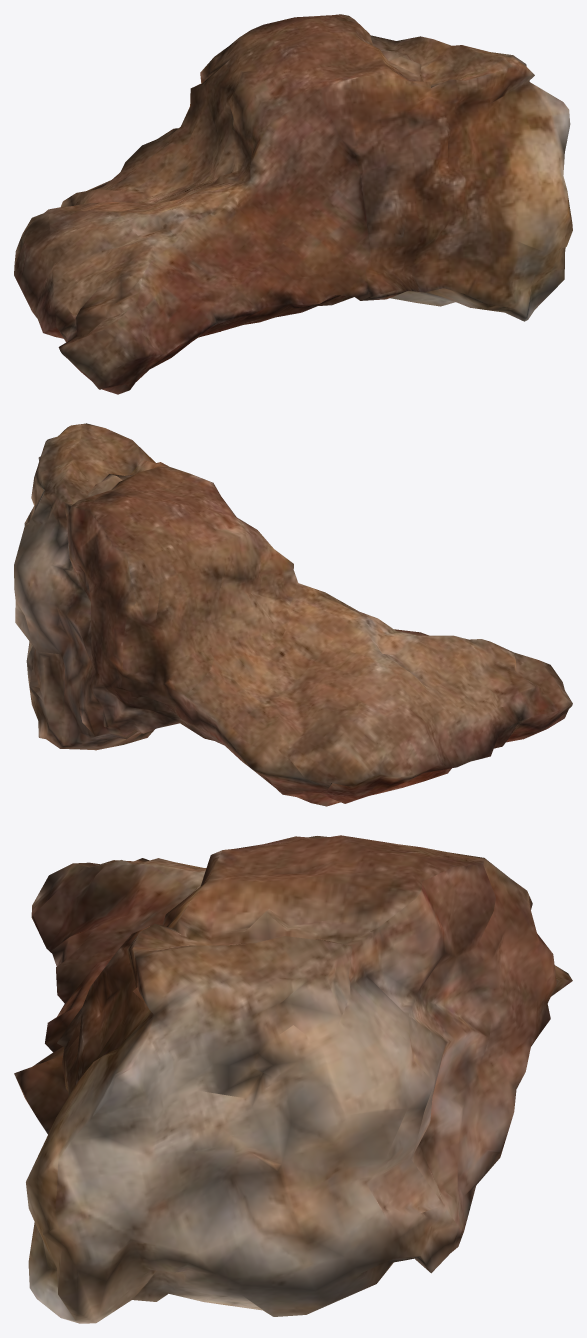
Rendered from stone_01.glb.
The picture shows the model from 3 angles, top to bottom: view 1: azimuth 30°, elevation 25°; view 2: azimuth 150°, elevation 25°; view 3: azimuth 270°, elevation 25°; orthographic projection. The views are drawn at different scales.
Parts seen in each view (by area): view 1: stone_01; view 2: stone_01; view 3: stone_01.
Part boxes in pixels (x1,y1,x2,y2): stone_01: (14, 14, 572, 394); stone_01: (14, 423, 572, 806); stone_01: (14, 835, 572, 1323).
Size of the model in its own units: 0.1465 by 0.0714 by 0.089.
Materials: 1 (1 with a texture image).
